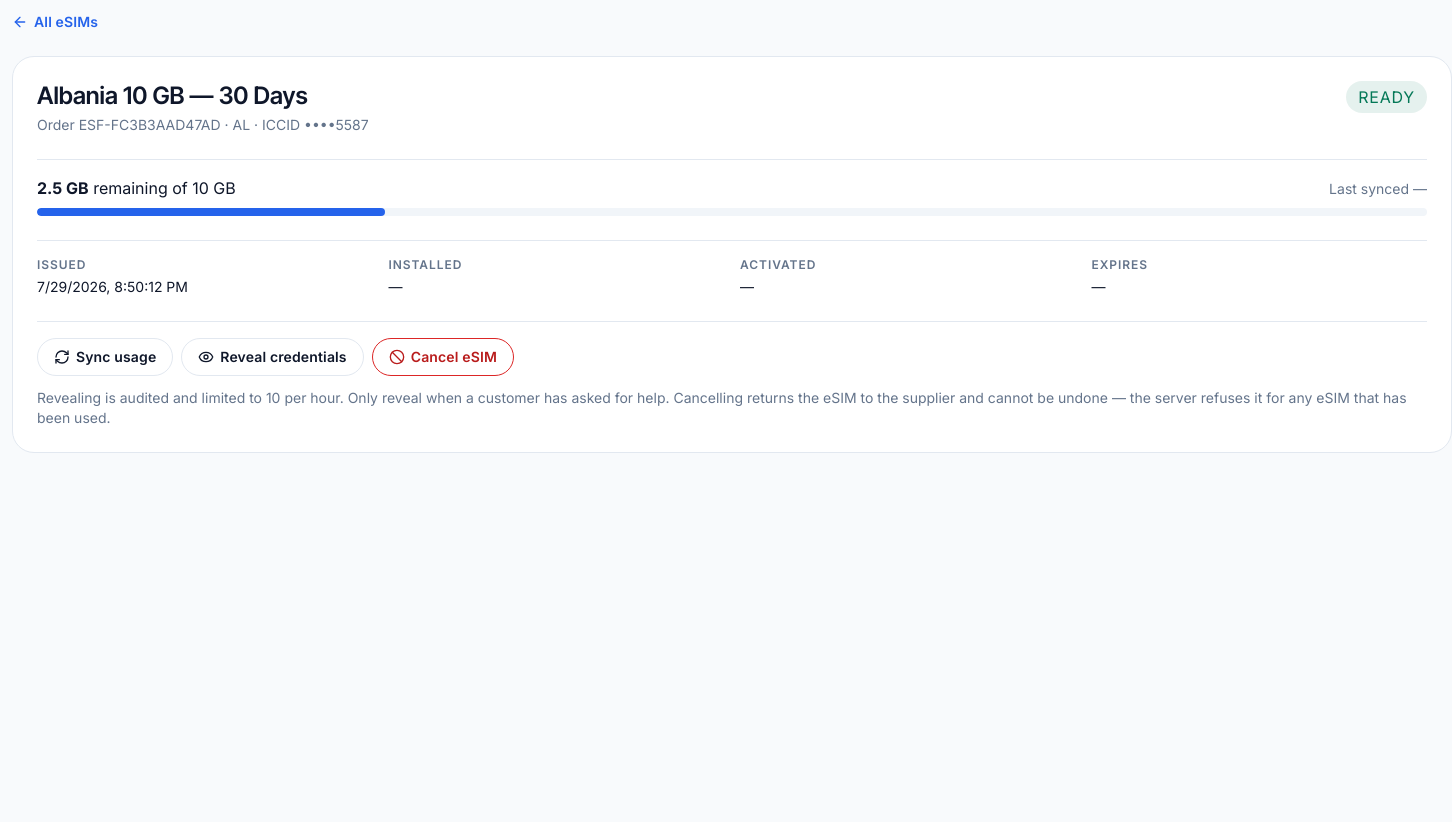
Test: revealed credentials › move focus to the section rather than appearing silently
Expected: the heading named "albania 10 gb" is shown, [37,81,308,110]
Step 1. Click the 2nd button named "reveal credentials" → (272, 357), box [181,338,364,376]
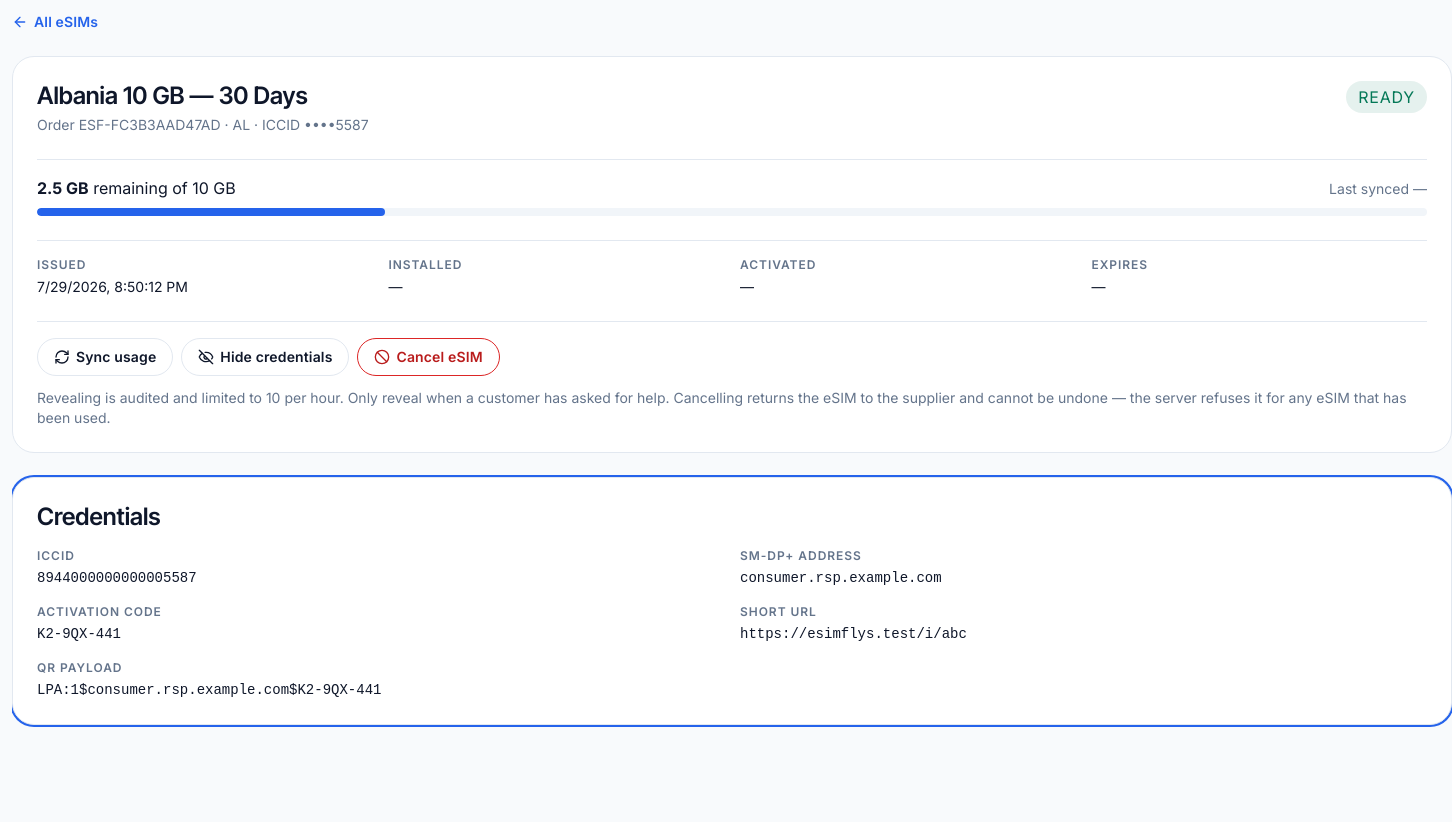
Expected: the text "8944000000000005587" is shown, [37,570,197,586]
